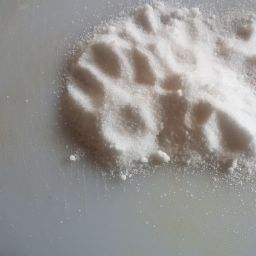Sugar: (61, 1, 256, 194), (110, 35, 231, 146)
